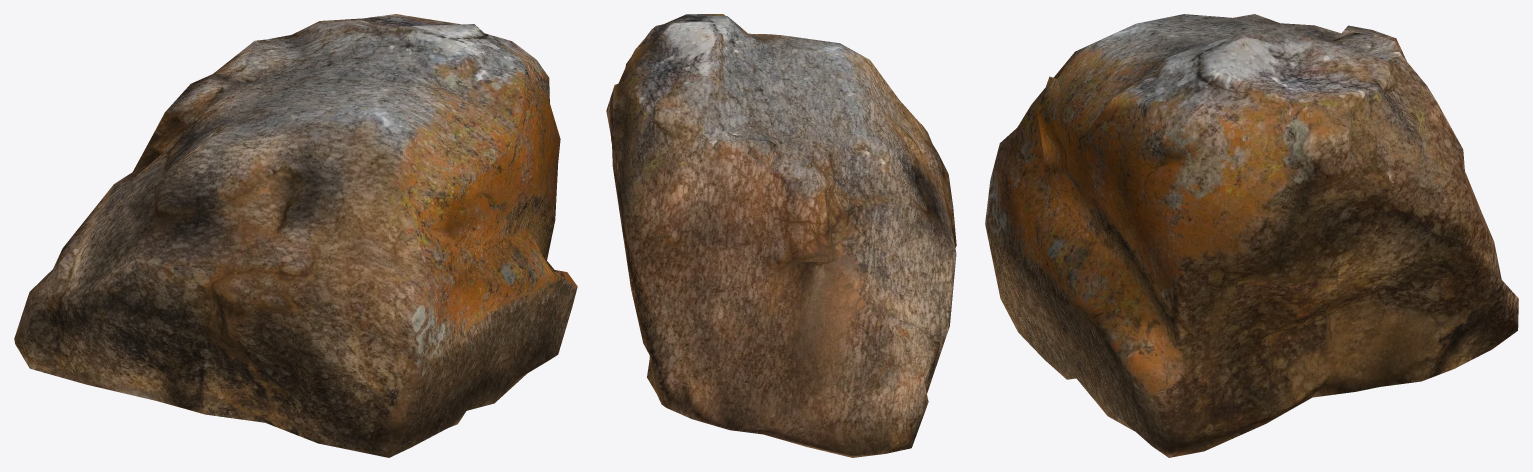
File: ph_namaqualand_boulder_04.glb
The picture shows the model from 3 angles, left to right: view 1: azimuth 30°, elevation 25°; view 2: azimuth 150°, elevation 25°; view 3: azimuth 270°, elevation 25°; orthographic projection. The views are drawn at different scales.
Parts seen in each view (by area): view 1: boulder_04; view 2: boulder_04; view 3: boulder_04.
Part boxes in pixels (<box>): boulder_04: <box>14,14,577,457</box>; boulder_04: <box>606,14,956,457</box>; boulder_04: <box>985,14,1518,457</box>.
Bounding box in the file's own units: 2.52 × 1.89 × 2.48.
1 material, 1 textured.
